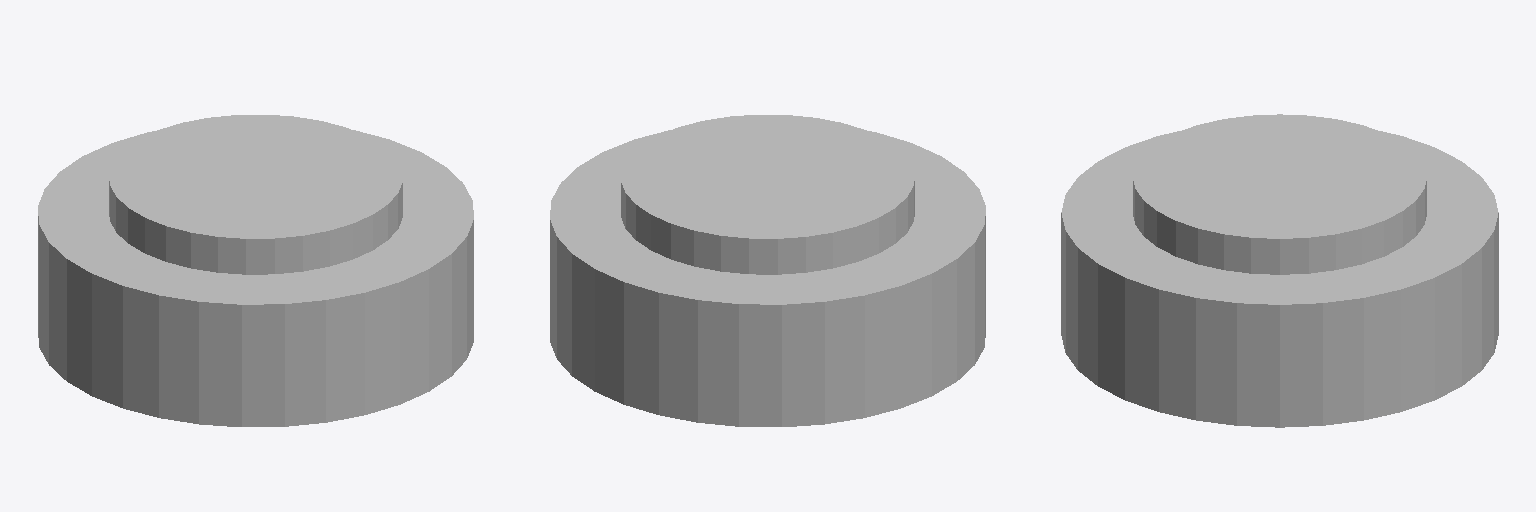
File: wheel.obj
The picture shows the model from 3 angles: view 1: azimuth 30°, elevation 25°; view 2: azimuth 150°, elevation 25°; view 3: azimuth 270°, elevation 25°; orthographic projection.
Visible parts, largest first — view 1: Cylinder.001; view 2: Cylinder.001; view 3: Cylinder.001.
Boxes of the visible parts, x1=… form: Cylinder.001: x1=38, y1=115, x2=473, y2=426; Cylinder.001: x1=550, y1=115, x2=985, y2=426; Cylinder.001: x1=1061, y1=114, x2=1498, y2=427.
Bounding box in the file's own units: 2.72 × 1.09 × 2.72.